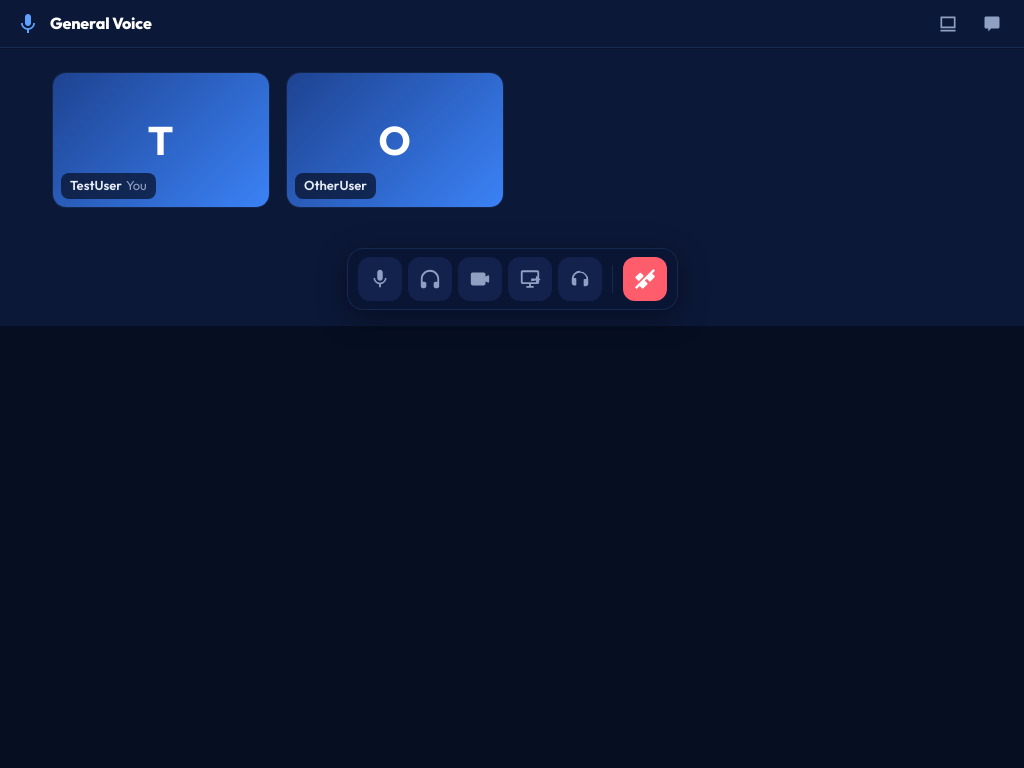
Test: VoiceChannelView › toggles to focus view when toggle button is clicked
Click the button named "Switch to Focus View" at (948, 24), box x1=932 y1=8 x2=964 y2=40
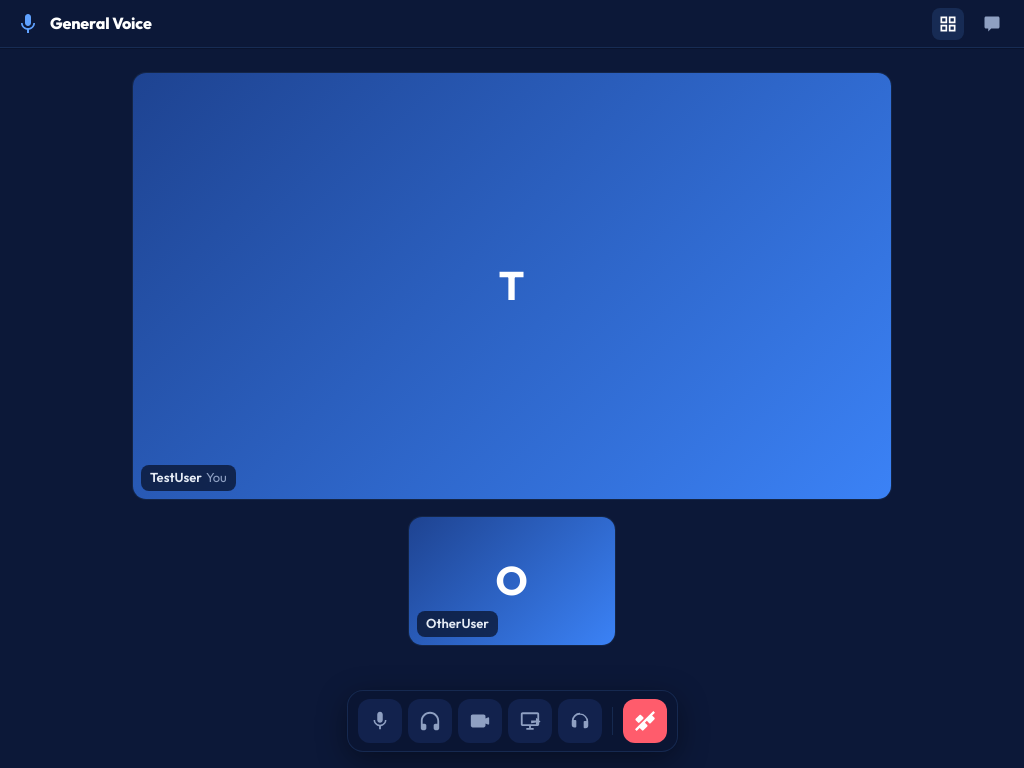
Check: the button named "Switch to Grid View" is shown, box x1=932 y1=8 x2=964 y2=40
